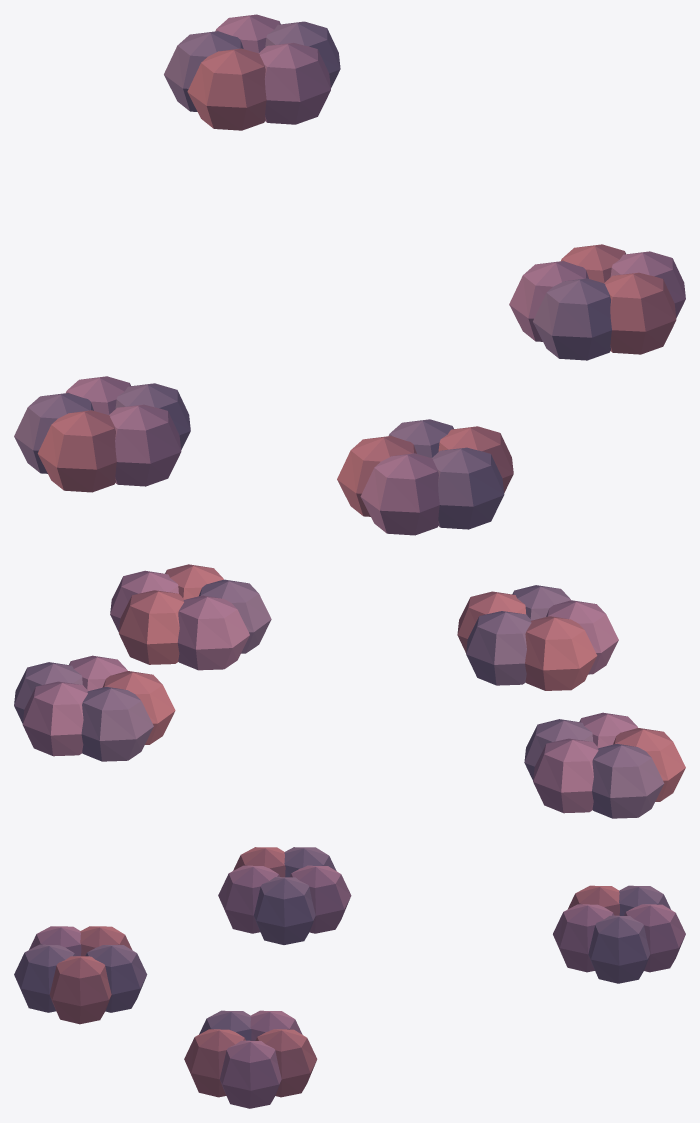
File: berry_fruit.glb
3 views of the same model, one above another, from view 1: azimuth 30°, elevation 25°; view 2: azimuth 150°, elevation 25°; view 3: azimuth 270°, elevation 25° (orthographic). The views are drawn at different scales.
Parts seen in each view (by area): view 1: Waldbeeren; view 2: Waldbeeren; view 3: Waldbeeren.
Boxes of the visible parts, box(x1,y1,x2,y2) form: Waldbeeren: box(14, 14, 685, 535); Waldbeeren: box(14, 564, 685, 818); Waldbeeren: box(14, 847, 685, 1108).
Size of the model in its own units: 1.05 by 0.326 by 1.19.
